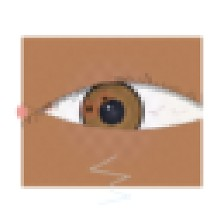foreign_body_visible: (31, 92, 61, 116)
